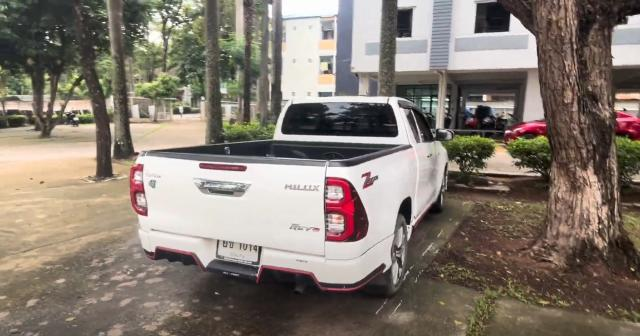pickup-truck: (131, 97, 451, 295)
